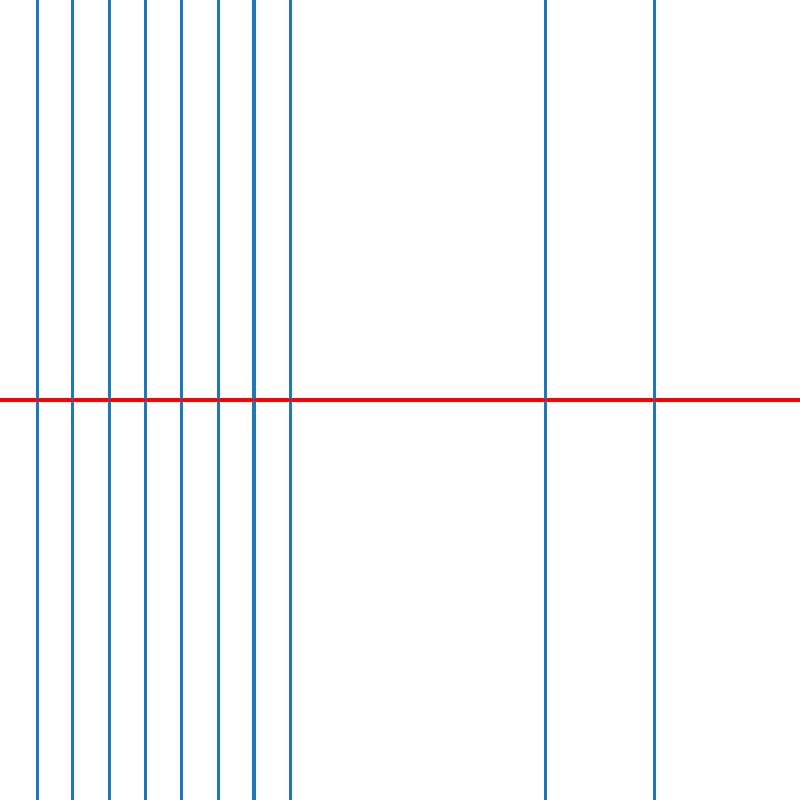root: (32, 396, 40, 404), (141, 396, 149, 404), (650, 396, 658, 404), (250, 396, 258, 404), (541, 396, 549, 404), (178, 396, 185, 404), (214, 396, 221, 404), (69, 396, 76, 404), (105, 396, 112, 404), (287, 396, 294, 404)
